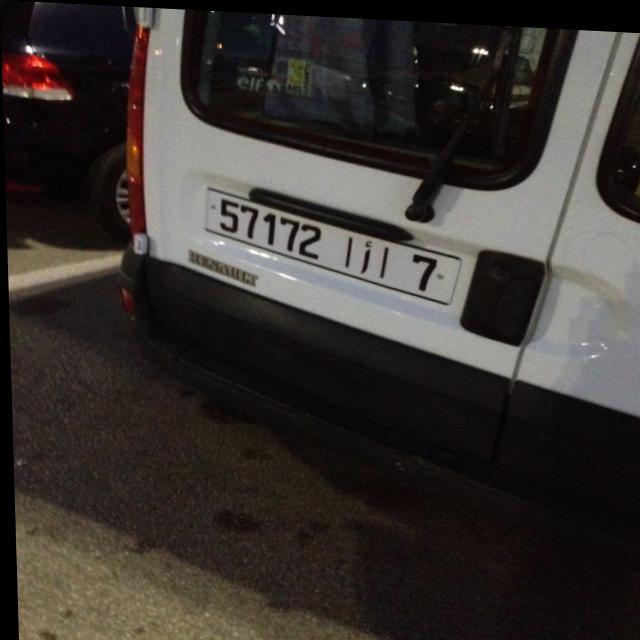License-Plate: (205, 188, 459, 298)
